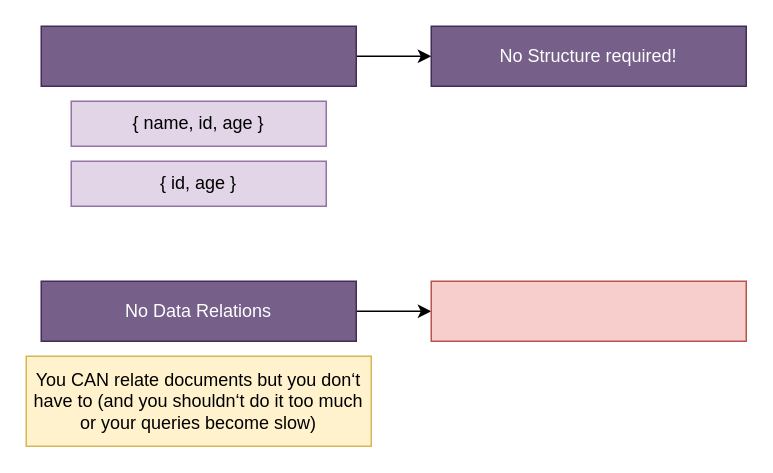
Image size: 773x473. Some labels were removed from this diagram. The shapes that lost their labels are listed below. From the top down, each one's centre as x and y in pixels, then its label:
(x=198, y=55): NO Data Schema
(x=588, y=310): No / Few Connections
